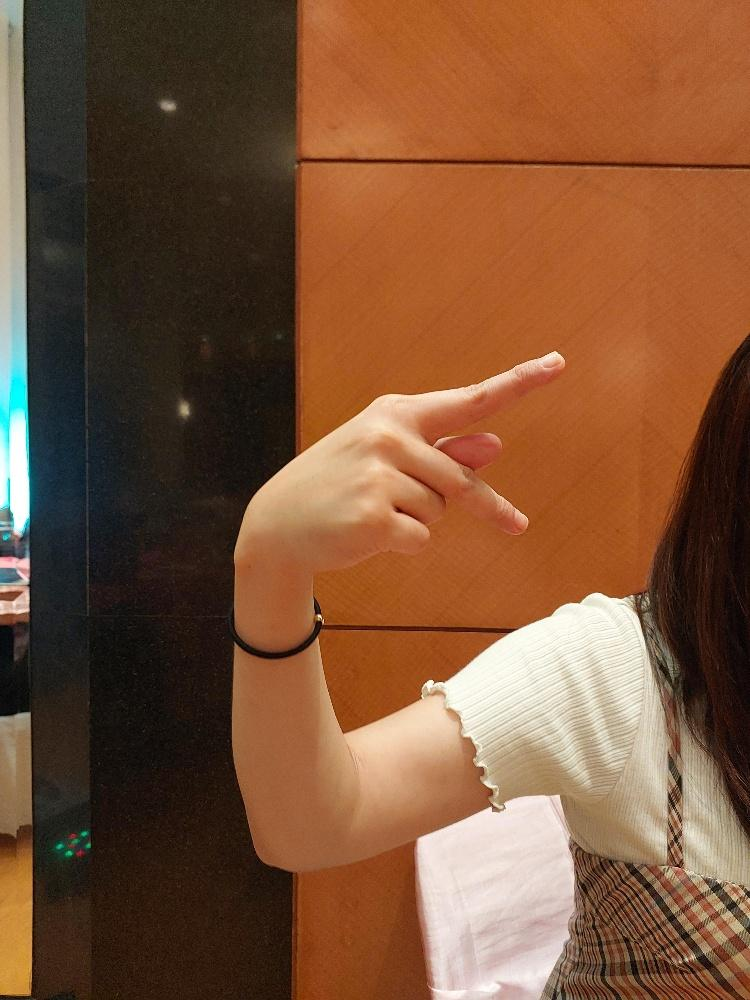k: (231, 348, 566, 573)
